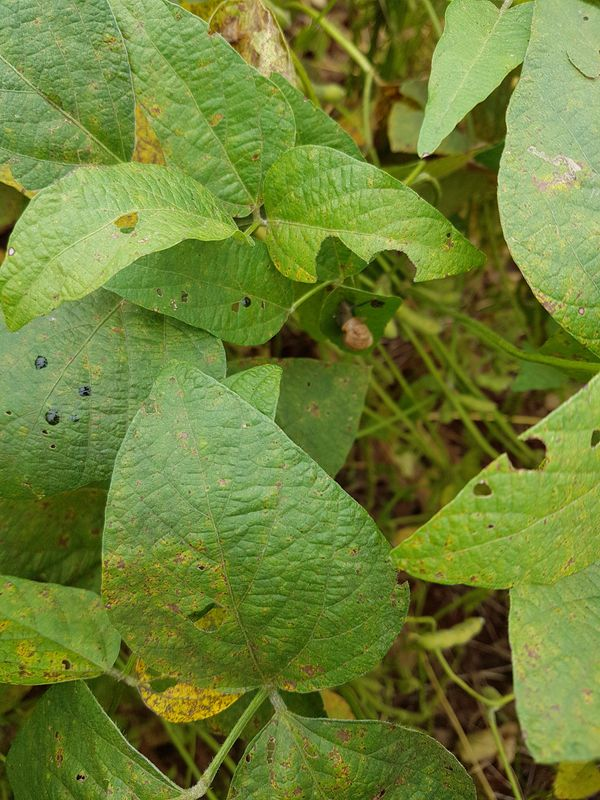Gastropoda: (322, 297, 381, 358)
